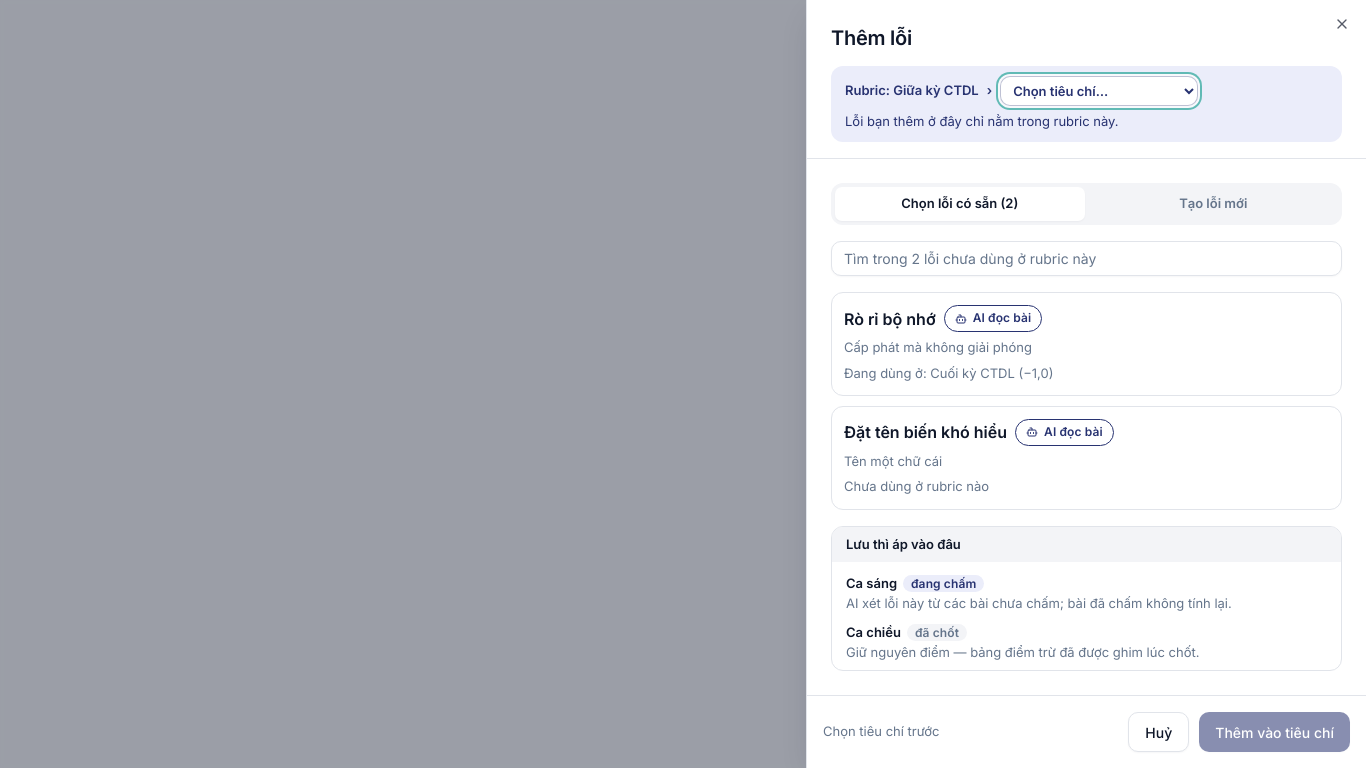
Test: AddErrorDrawer — ngữ cảnh (T-RBE-UI-5) › mở từ nút toàn trang: tiêu chí là một ô chọn; chưa chọn thì nút lưu khoá và nói vì sao
This screenshot has width=1366, height=768.
Check: the dropdown named "Tiêu chí" is shown, box [1000,76,1198,106]
Click the button "Rò rỉ bộ nhớ" at point(890, 319), box [831,292,1342,396]
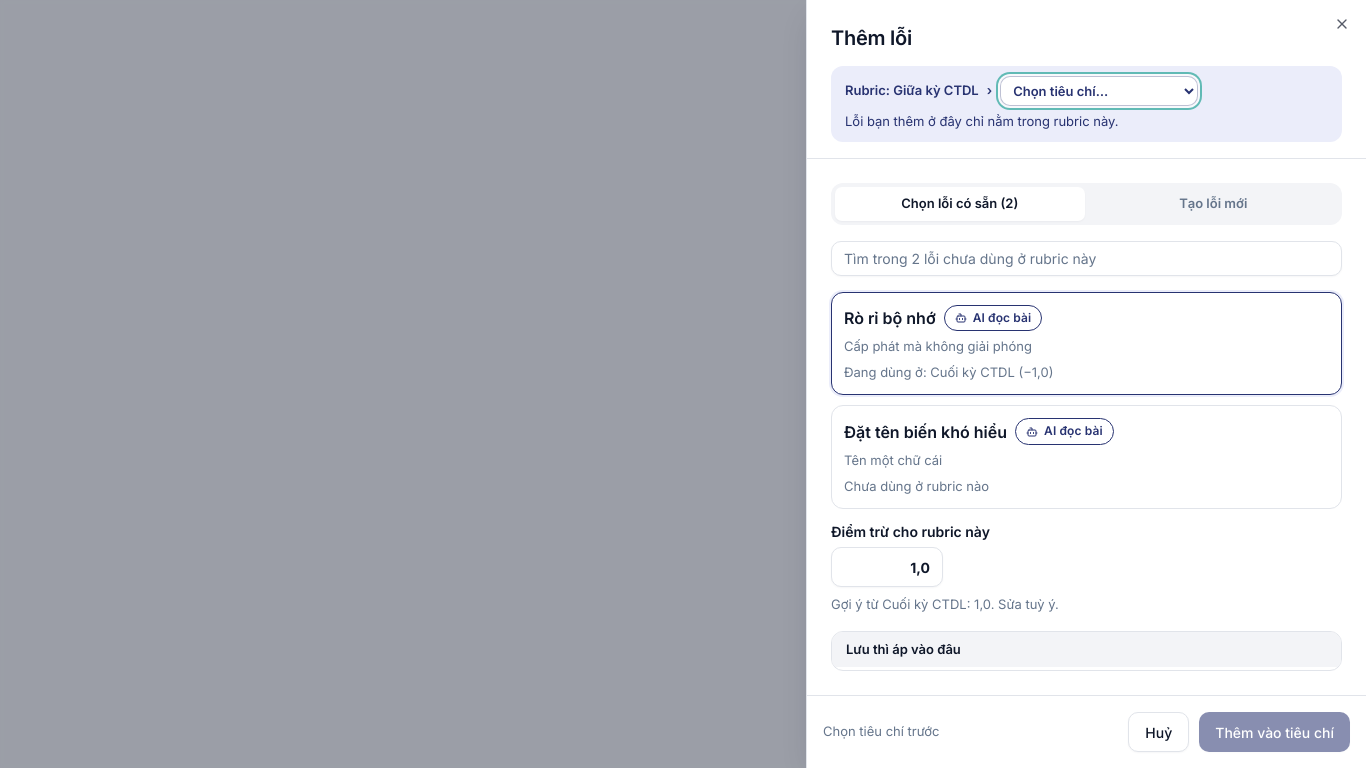
Check: the button "Thêm vào tiêu chí" is disabled, box [1199,712,1350,752]
Check: the text "Chọn tiêu chí trước" is shown, box [823,722,940,742]
Select "Trình bày · tối đa 2,0" in the dropdown named "Tiêu chí" at point(1099, 91), box [1000,76,1198,106]
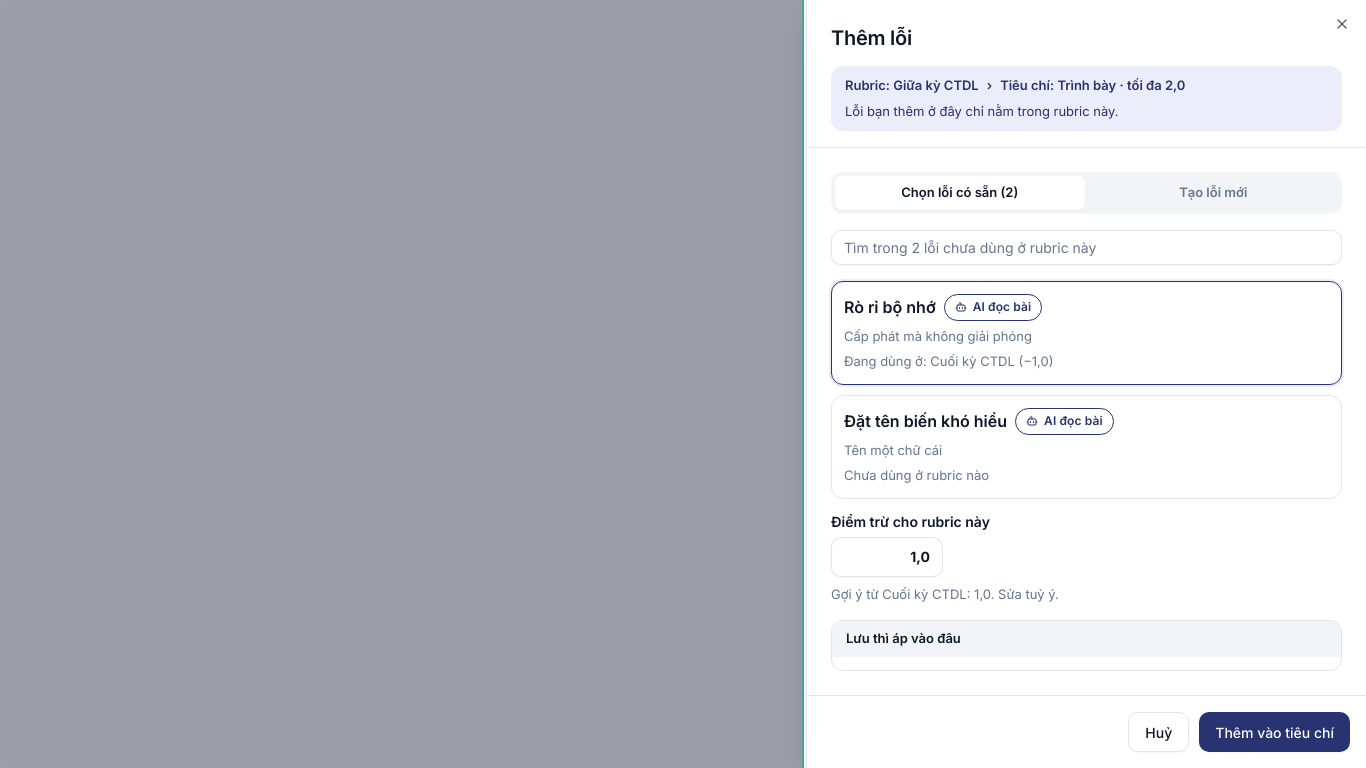
Check: the button "Thêm vào tiêu chí" is enabled, box [1199,712,1350,752]
